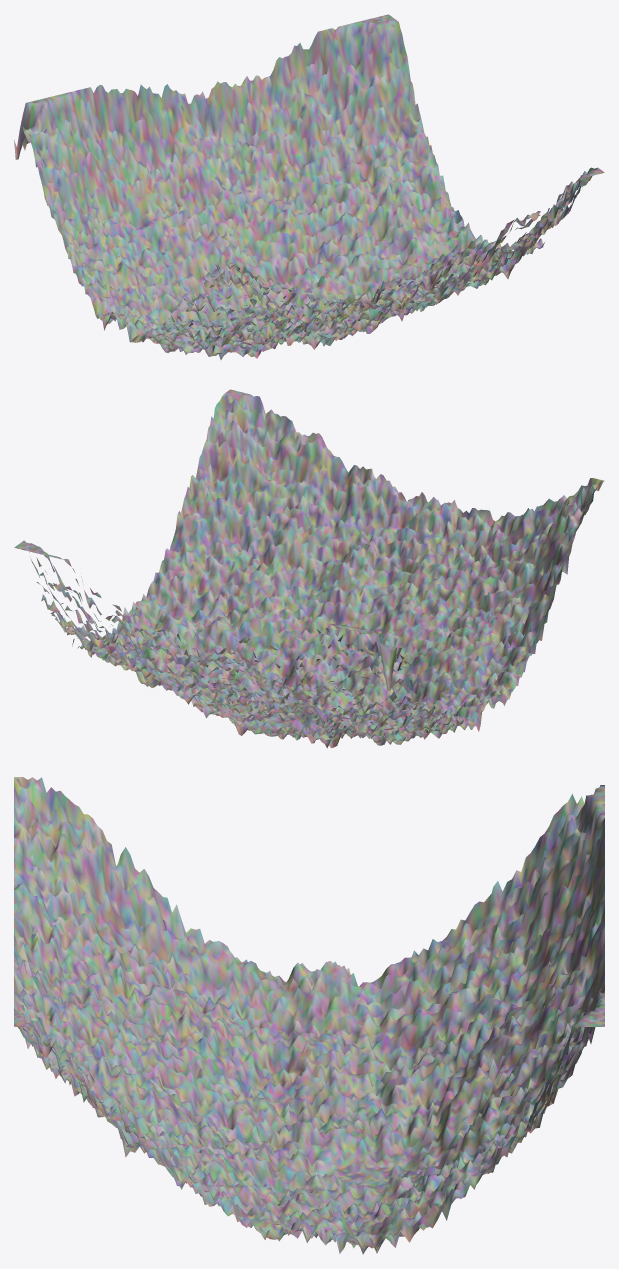
Rendered from dsm_c3221e753e_mesh.glb.
The picture shows the model from 3 angles, top to bottom: view 1: azimuth 30°, elevation 25°; view 2: azimuth 150°, elevation 25°; view 3: azimuth 270°, elevation 25°; orthographic projection. The views are drawn at different scales.
Visible parts, largest first — view 1: geometry_0; view 2: geometry_0; view 3: geometry_0.
Part boxes in pixels (bbox=[...]): geometry_0: bbox=[14, 14, 604, 359]; geometry_0: bbox=[14, 389, 604, 748]; geometry_0: bbox=[14, 777, 604, 1254].
Size of the model in its own units: 2 by 1 by 2.
